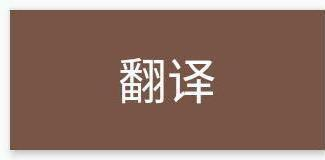Button: (1, 1, 324, 159)
